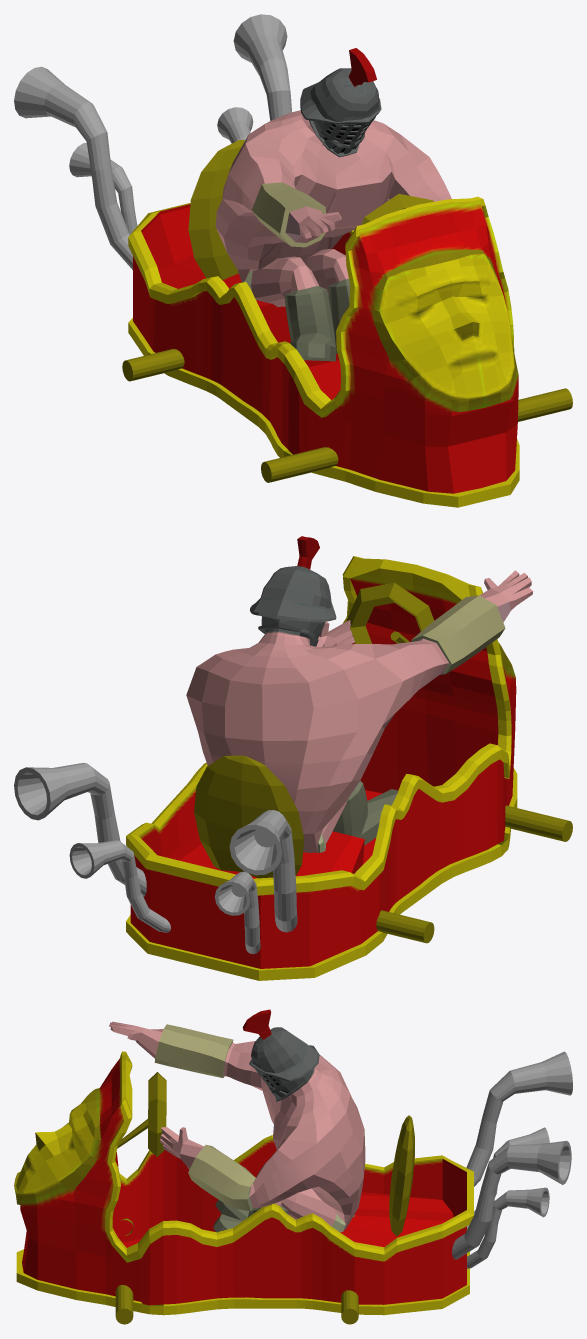
Rendered from gladiVacile_000529.obj.
3 renders of one model, top to bottom at view 1: azimuth 30°, elevation 25°; view 2: azimuth 150°, elevation 25°; view 3: azimuth 270°, elevation 25°, orthographic. The views are drawn at different scales.
Parts seen in each view (by area): view 1: GladiChasis_GladiChasisH, Gadiador_Gladiador_H.001, GladiTubos_GladiTubosH, GladiVolante_GladiVolanteH; view 2: GladiChasis_GladiChasisH, Gadiador_Gladiador_H.001, GladiTubos_GladiTubosH, GladiVolante_GladiVolanteH; view 3: GladiChasis_GladiChasisH, Gadiador_Gladiador_H.001, GladiTubos_GladiTubosH, GladiVolante_GladiVolanteH.
Part boxes in pixels (x1,y1,x2,y2): GladiChasis_GladiChasisH: (128, 196, 519, 507); Gadiador_Gladiador_H.001: (215, 48, 451, 361); GladiTubos_GladiTubosH: (14, 14, 291, 269); GladiVolante_GladiVolanteH: (122, 140, 572, 482); GladiChasis_GladiChasisH: (126, 556, 517, 980); Gadiador_Gladiador_H.001: (186, 536, 532, 852); GladiTubos_GladiTubosH: (14, 763, 297, 954); GladiVolante_GladiVolanteH: (194, 582, 572, 943); GladiChasis_GladiChasisH: (14, 1051, 473, 1315); Gadiador_Gladiador_H.001: (109, 1009, 365, 1232); GladiTubos_GladiTubosH: (452, 1051, 572, 1268); GladiVolante_GladiVolanteH: (115, 1072, 414, 1324).
Size of the model in its own units: 5.46 by 5.75 by 10.78.
